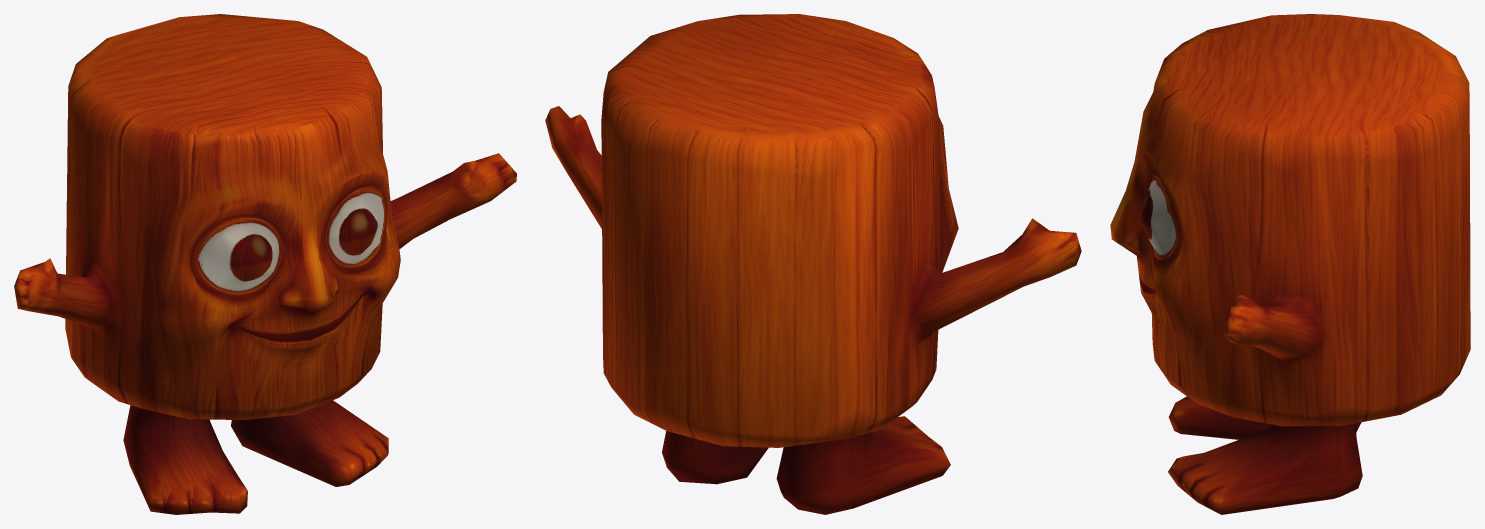
File: tungtung-game-340.glb
3 renders of one model, left to right at view 1: azimuth 30°, elevation 25°; view 2: azimuth 150°, elevation 25°; view 3: azimuth 270°, elevation 25°, orthographic. The views are drawn at different scales.
Visible parts, largest first — view 1: material; view 2: material; view 3: material.
Part boxes in pixels (box(x1,y1,x2,y2)): material: box(14, 14, 516, 514); material: box(545, 14, 1081, 514); material: box(1110, 14, 1470, 514).
Size of the model in its own units: 1.13 by 0.8392 by 0.6955.
1 material, 1 textured.
